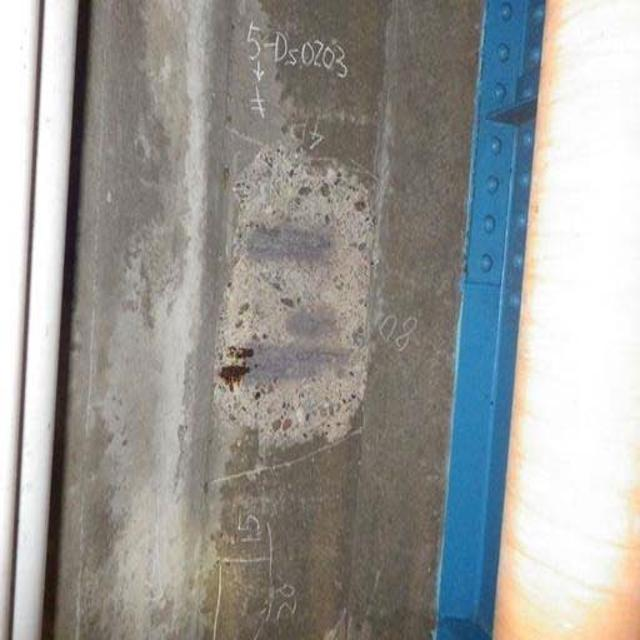spalling: (197, 130, 376, 470)
